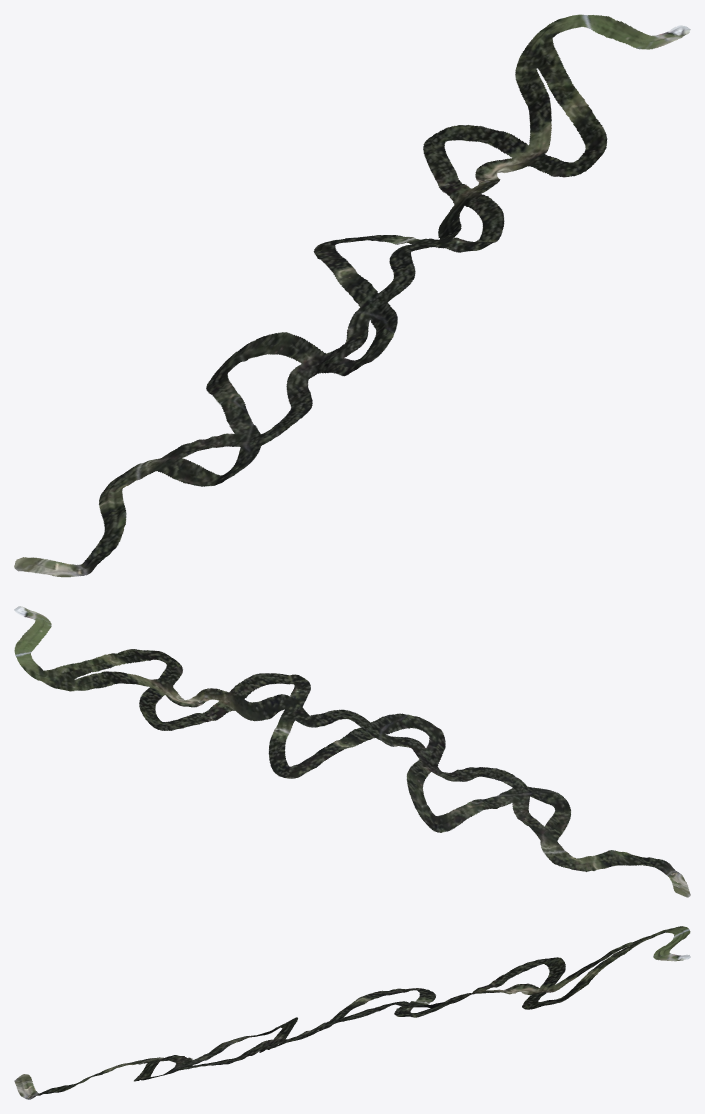
File: corridor-v3-mobile.glb
3 renders of one model, top to bottom at view 1: azimuth 30°, elevation 25°; view 2: azimuth 150°, elevation 25°; view 3: azimuth 330°, elevation 25°, orthographic. The views are drawn at different scales.
Parts seen in each view (by area): view 1: V3 / ruts berms takeoffs / mobile; view 2: V3 / ruts berms takeoffs / mobile; view 3: V3 / ruts berms takeoffs / mobile.
Part boxes in pixels (<box>): V3 / ruts berms takeoffs / mobile: <box>14,14,690,577</box>; V3 / ruts berms takeoffs / mobile: <box>14,606,690,897</box>; V3 / ruts berms takeoffs / mobile: <box>14,926,690,1099</box>.
Bounding box in the file's own units: 1238 × 412 × 544.
1 material, 1 textured.
